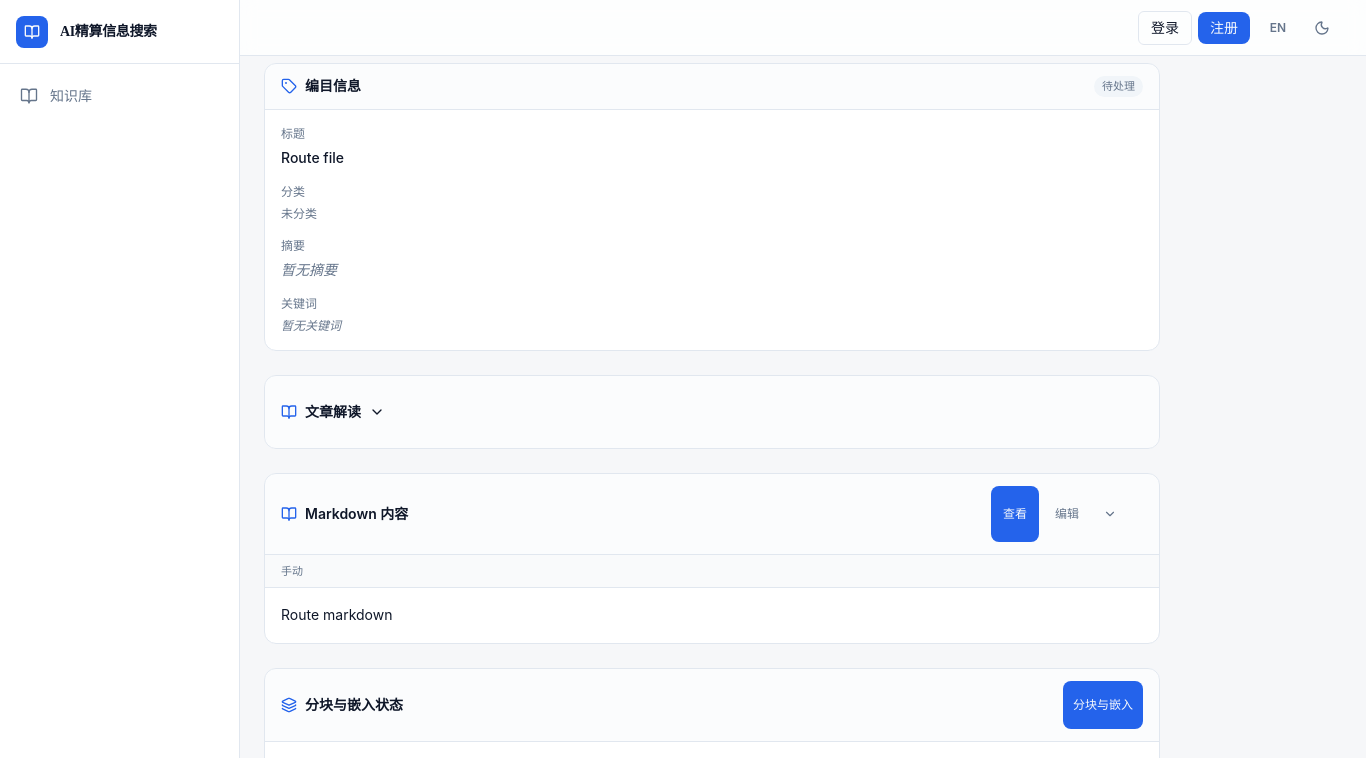
it: ignores a late interpretation response after the route changes to another article
(page scrolled)
Click the button with test id "button-interpretation-toggle".
click(333, 412)  # box [281, 388, 385, 436]
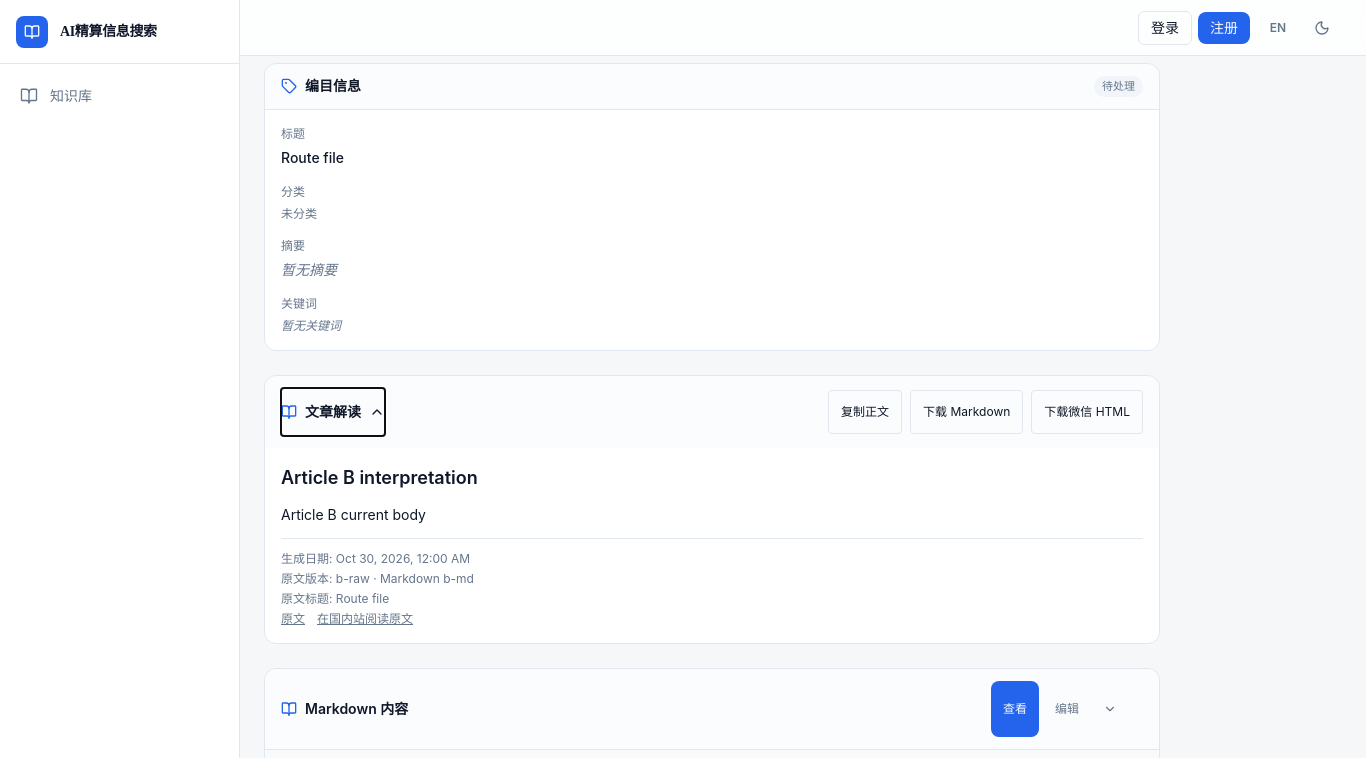
Result: the heading "Article B interpretation" is shown at [281, 466, 478, 488]
Result: the text "Article B current body" is shown at [281, 506, 426, 522]
